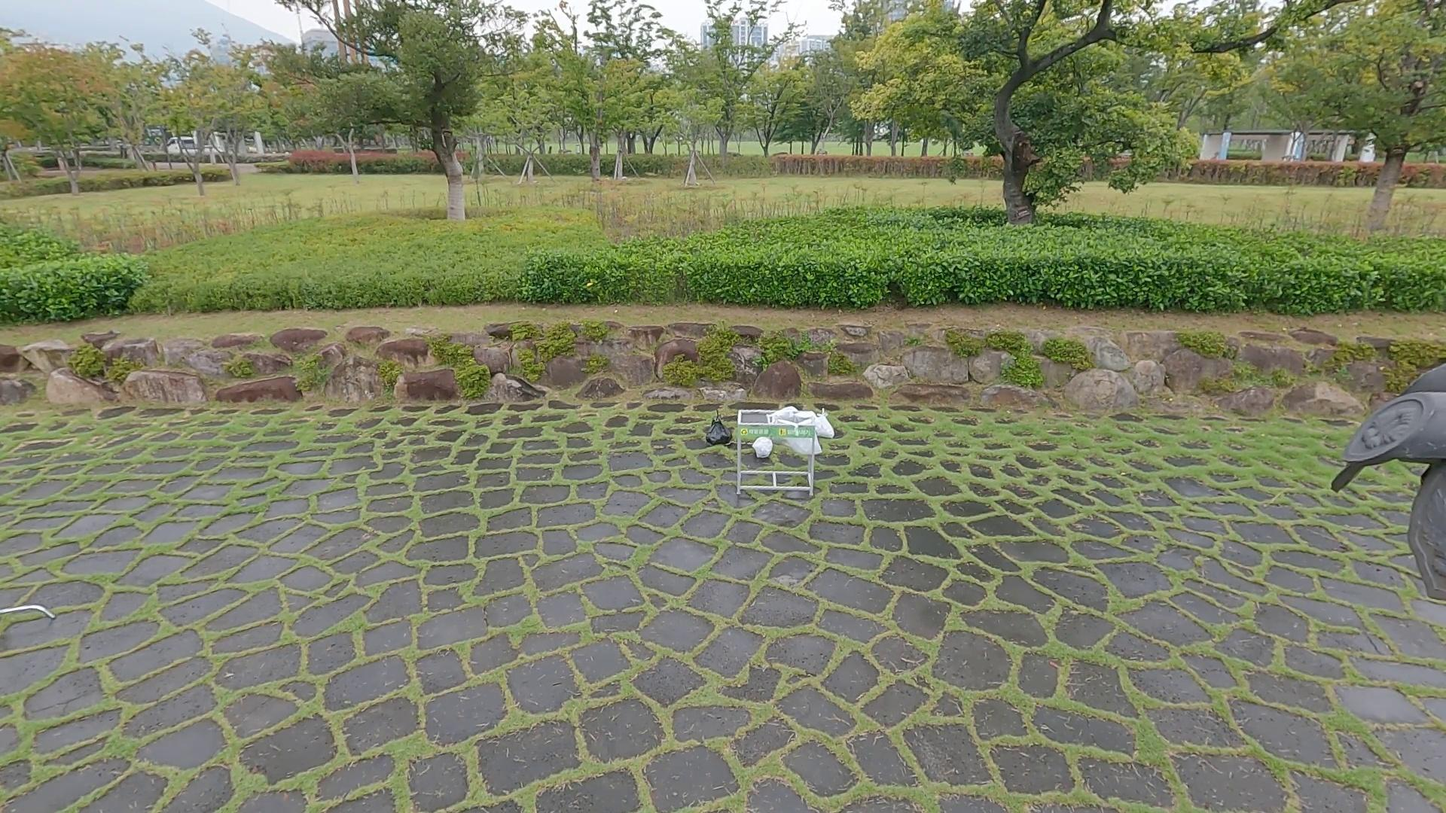trash: (703, 414, 733, 448), (809, 408, 838, 440), (749, 433, 777, 461)
